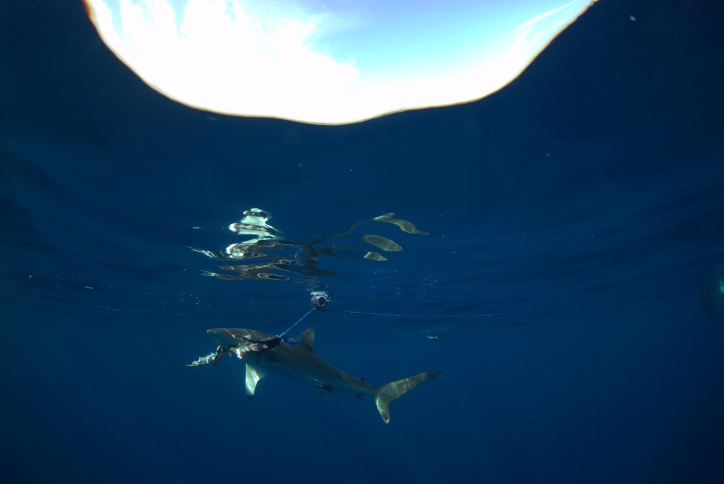Sedoso: (170, 316, 457, 435)
